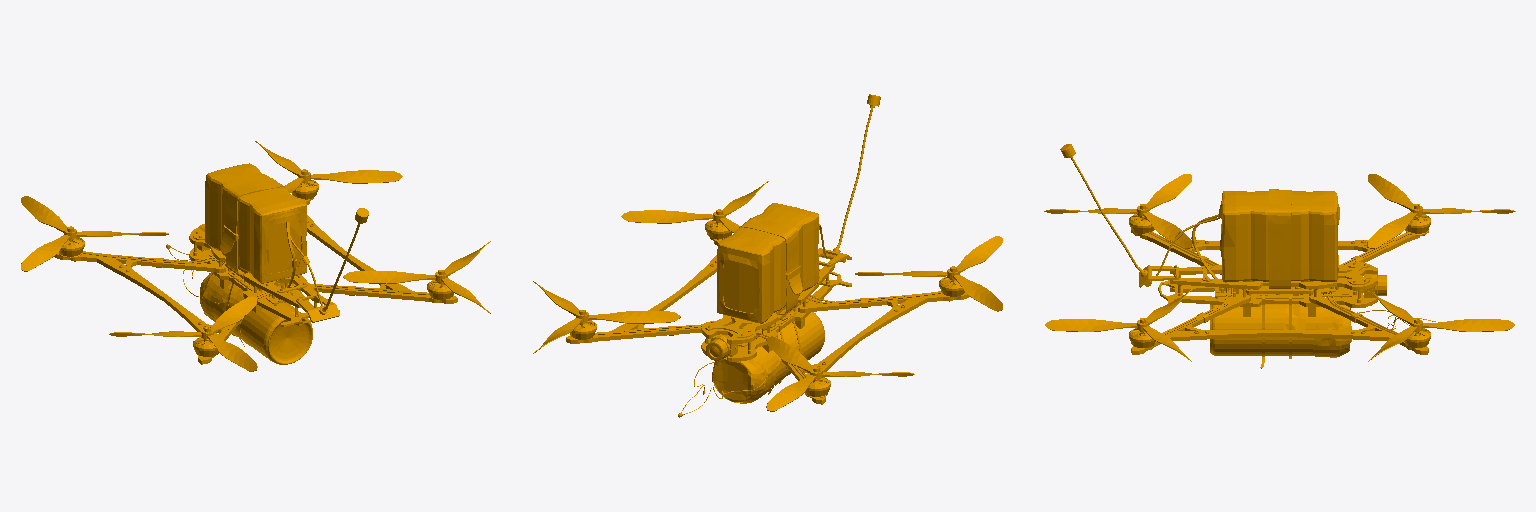
URDF robot description (Vapor_X5):
<?xml version="1.0"?>
<robot name="Vapor_X5">

  
  <link name="base_link">
    <inertial>
      <origin xyz="0 0 0" rpy="0 0 0"/>
      <mass value="0.631"/> <!-- [kg] (frame  Vapor-X5 O4 PRO: 409 g, battery 6S LiPo1300mAh – 1800mAh: 222 g) -->
      <inertia ixx="0.00233681" ixy="0" ixz="0" iyy="0.00240461" iyz="0" izz="0.003746"/> <!-- [kg.m^2] (Frame inertia (0.23x0.23x0.05 [m]): Ixx = Iyy = 0.001888,
       Izz = 0.003606 [kg.m^2], battery inertia: (0.075x0.044x0.034 [m]): Ixx = 0.0000572, Iyy = 0.000125, Izz = 0.000140 [kg.m^2],
        distance from the drone's GC : d = 0.042 [m], Total inertia: I_tot = I_drone + I_battery + m_battery * d^2) -->
    </inertial>
    <visual>
      <origin xyz="0 0 0" rpy="0 0 0"/>
      <geometry>
        <mesh filename="meshes/Drone_mesh.dae" scale="0.3 0.3 0.3"/>
      </geometry>
    </visual>
    <collision>
      <origin xyz="0 0 0" rpy="0 0 0"/>
      <geometry>
        <mesh filename="meshes/Drone_mesh.dae" scale="0.3 0.3 0.3"/>
      </geometry>
    </collision>
  </link>

  
  <link name="arm_link">
    <inertial>
      <origin xyz="0 0 0" rpy="0 0 0"/>
      <mass value="0.0"/>
      <inertia ixx="0.0000" ixy="0" ixz="0" iyy="0.0000" iyz="0" izz="0.0000"/>
    </inertial>
    <visual>
      <origin xyz="0 0 0" rpy="0 0 0"/>
      <geometry>
        <box size="0.0 0.0 0.0"/>
      </geometry>
      <material name="red"/>
    </visual>
    <collision>
      <origin xyz="0 0 0" rpy="0 0 0"/>
      <geometry>
        <box size="0.0 0.0 0.0"/>
      </geometry>
    </collision>
  </link>

  
  <joint name="joint_arm" type="revolute">
    <parent link="base_link"/>
    <child link="arm_link"/>
    <origin xyz="0 0 0" rpy="0 0 0"/>
    <axis xyz="0 0 1"/> 
    <limit lower="-1.57" upper="1.57" effort="0.5" velocity="1.0"/>
  </joint>
  
</robot>

--- Render facts (derived) ---
3 views of the same robot in one strip: view 1: azimuth 30°, elevation 25°; view 2: azimuth 150°, elevation 25°; view 3: azimuth 270°, elevation 25° (orthographic).
Robot: Vapor_X5 — 2 links, 1 joints (1 revolute); root link base_link; default pose: every joint at zero.
Links seen in each view (by area): view 1: base_link; view 2: base_link; view 3: base_link.
Link boxes in pixels (box(x1,y1,x2,y2)): base_link: box(21, 141, 490, 371); base_link: box(533, 94, 1002, 417); base_link: box(1044, 144, 1515, 368).
Bounding box of the posed robot: 0.2999 × 0.32 × 0.1632 m (x, y, z).
Meshes: 1 distinct files referenced, 1 mesh visuals loaded (1 Collada DAE).